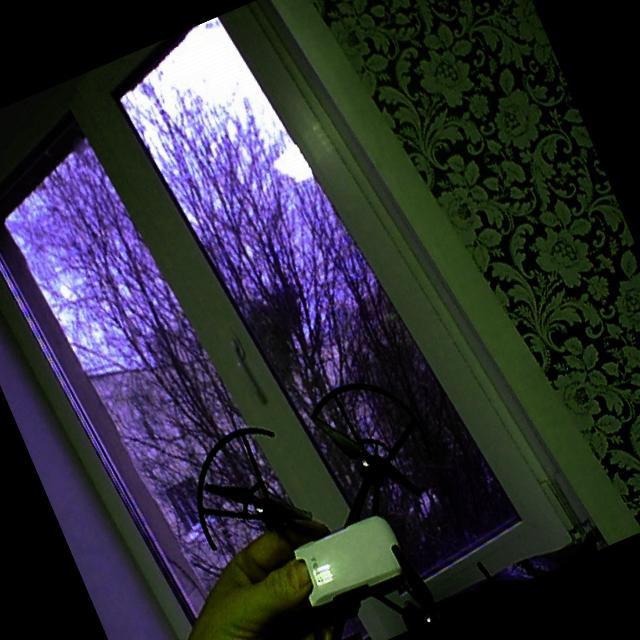drone: (158, 353, 500, 640)
